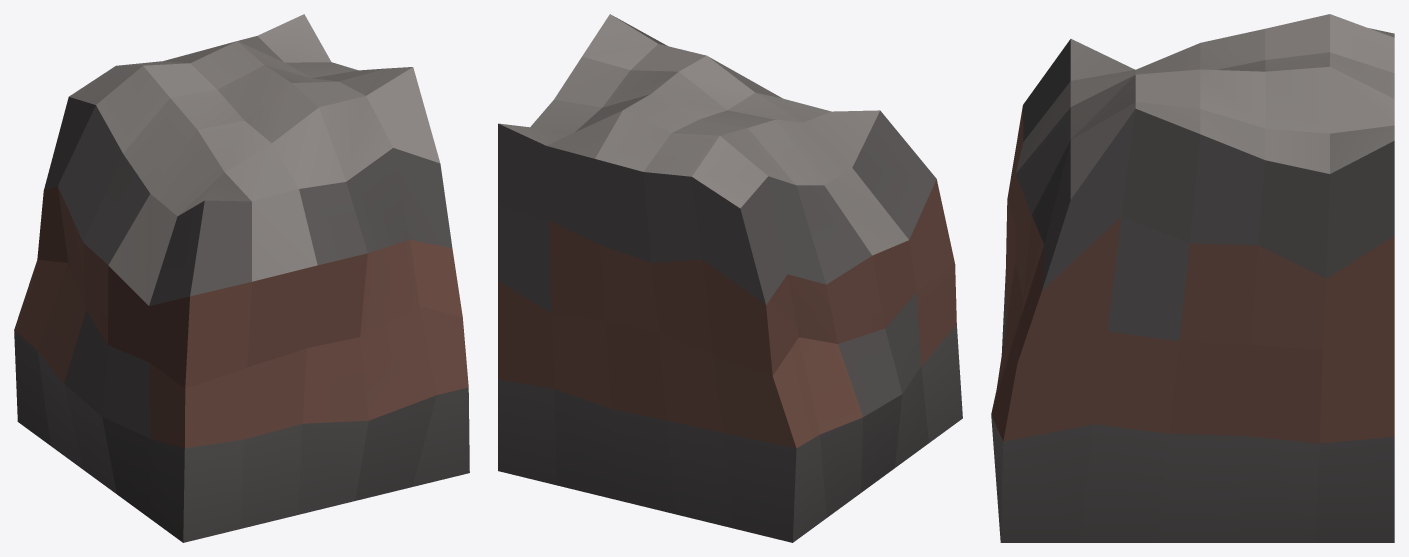
File: roca_esquina_3.glb
3 views of the same model, side by side, from view 1: azimuth 30°, elevation 25°; view 2: azimuth 150°, elevation 25°; view 3: azimuth 270°, elevation 25° (orthographic). The views are drawn at different scales.
Visible parts, largest first — view 1: propforge-cuartos-roca_esquina; view 2: propforge-cuartos-roca_esquina; view 3: propforge-cuartos-roca_esquina.
Boxes of the visible parts, left/top/right/bottom form: propforge-cuartos-roca_esquina: left=14, top=14, right=469, bottom=542; propforge-cuartos-roca_esquina: left=498, top=14, right=962, bottom=542; propforge-cuartos-roca_esquina: left=991, top=14, right=1394, bottom=542.
Bounding box in the file's own units: 0.935 × 1.09 × 0.9217.
